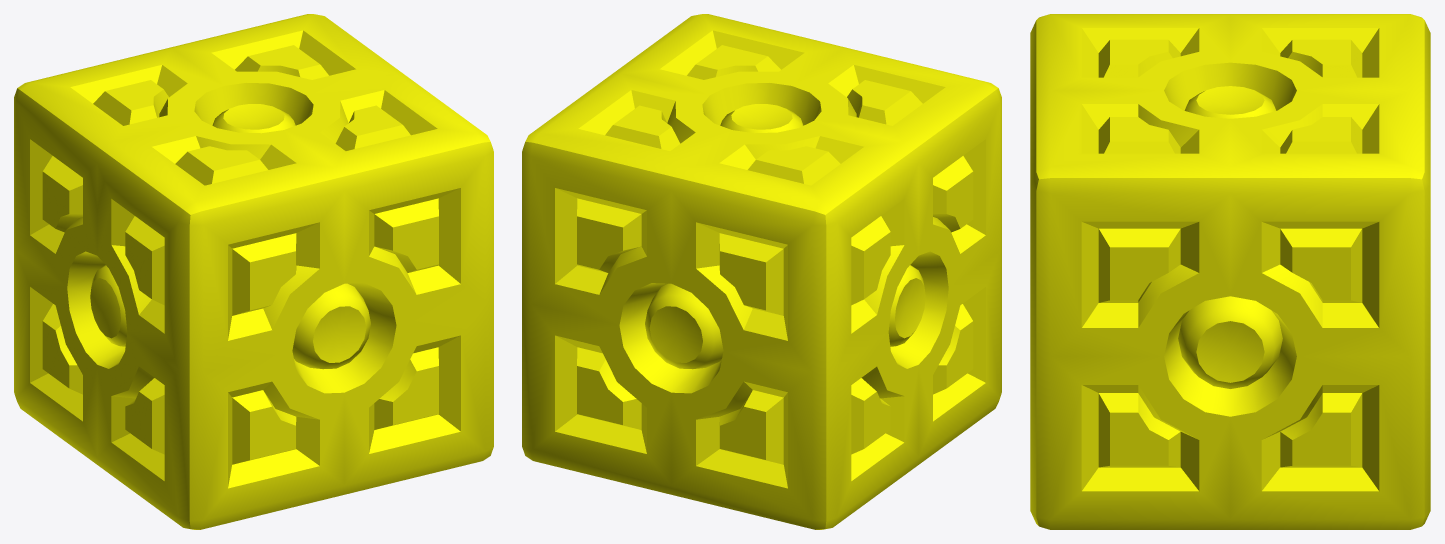
The model's file is kaykit-decorative-block-green.glb.
3 views of the same model, side by side, from view 1: azimuth 30°, elevation 25°; view 2: azimuth 150°, elevation 25°; view 3: azimuth 270°, elevation 25° (orthographic). The views are drawn at different scales.
Parts seen in each view (by area): view 1: decorative_block_green; view 2: decorative_block_green; view 3: decorative_block_green.
Boxes of the visible parts, x1=… form: decorative_block_green: x1=14, y1=14, x2=493, y2=529; decorative_block_green: x1=522, y1=14, x2=1001, y2=529; decorative_block_green: x1=1030, y1=14, x2=1430, y2=529.
Bounding box in the file's own units: 2 × 2 × 2.
